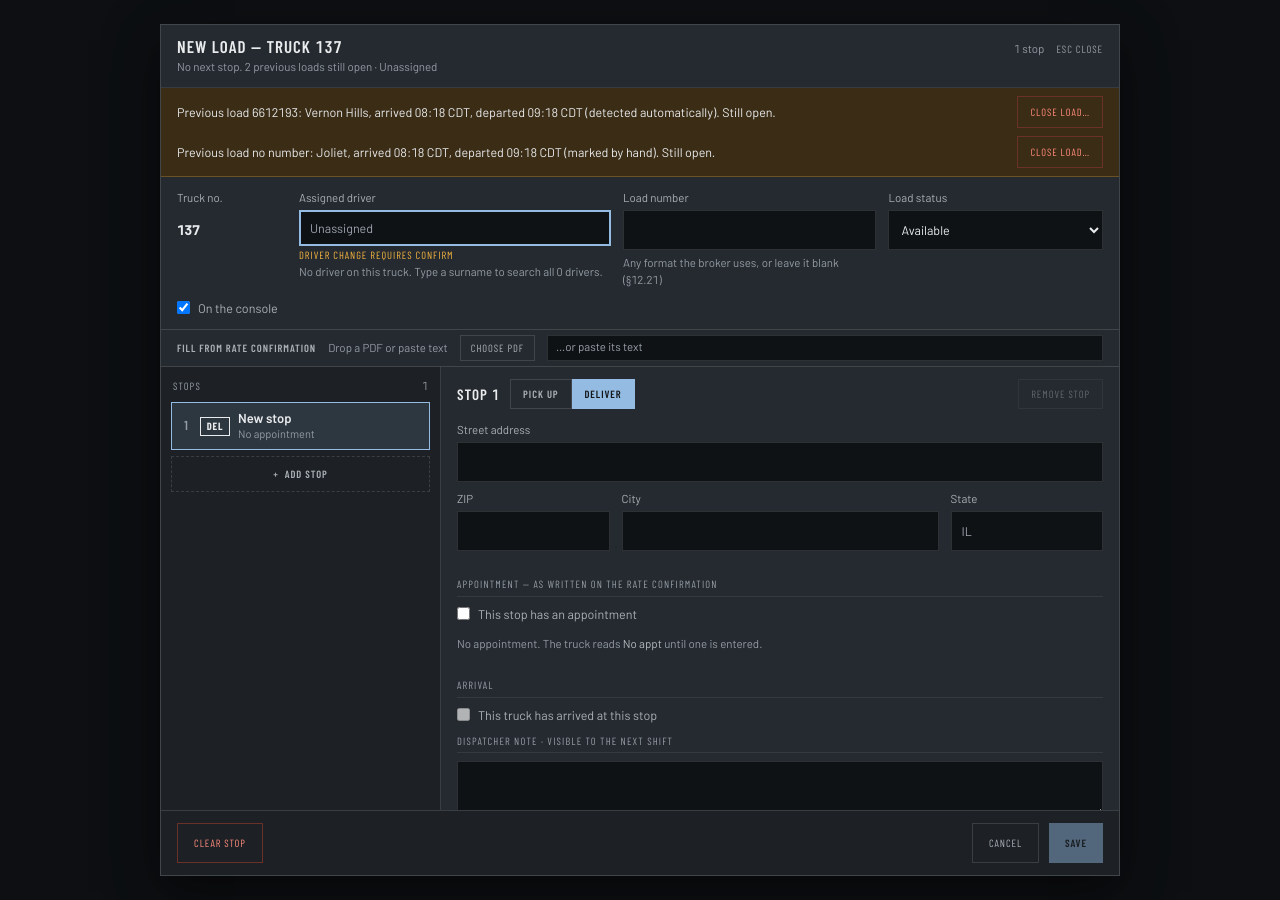
Test case: a truck with no next stop but open loads (§12.92) › shows a line for each of two, and Close load… opens the confirm step on THAT load
The image size is (1280, 900).
Click the 2nd button "Close load…" at (1060, 152), box [1017,136,1103,168]
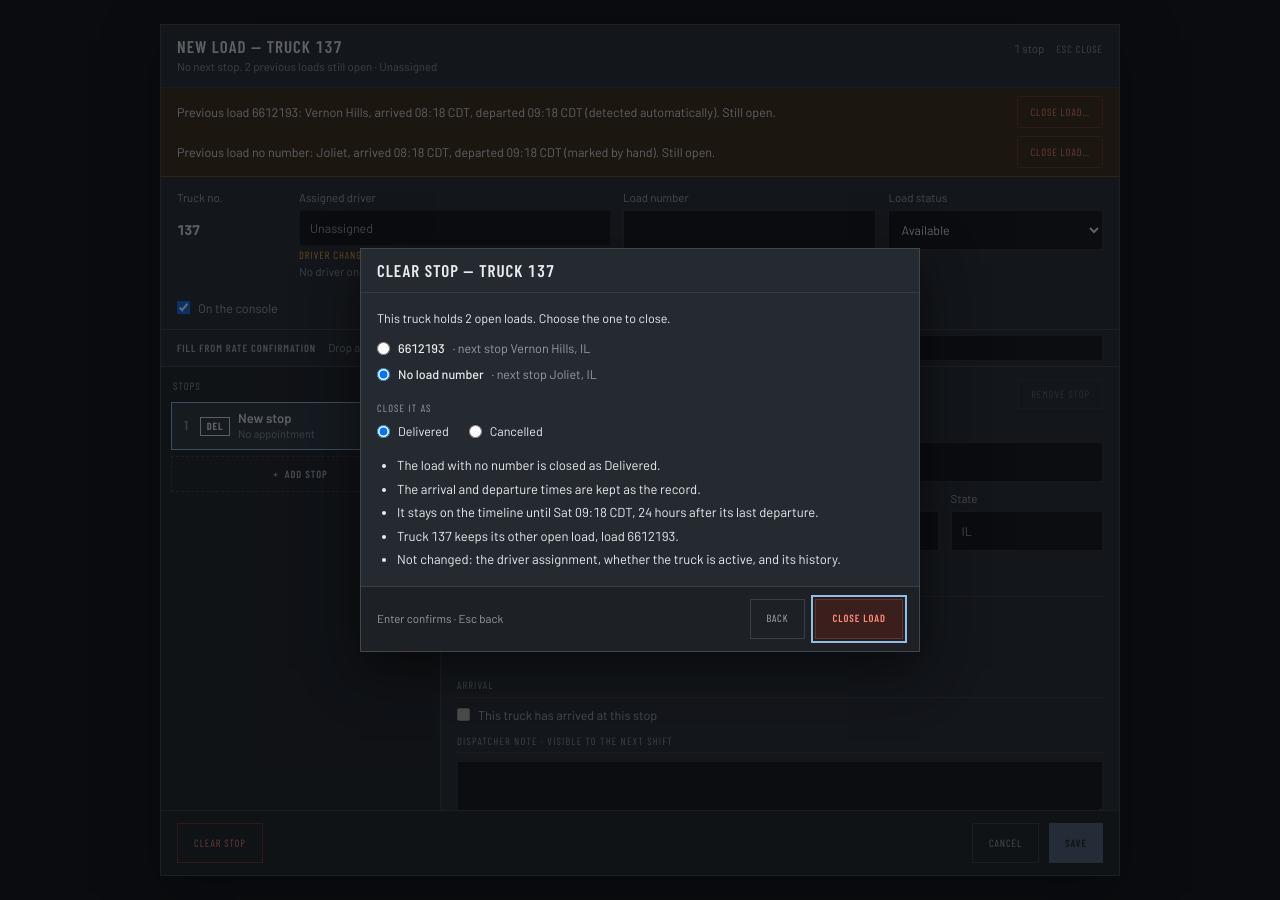
Expected: the radio button named "clear-load" holds "44444444-4444-4444-8444-4444444444bb", [377,368,390,381]
